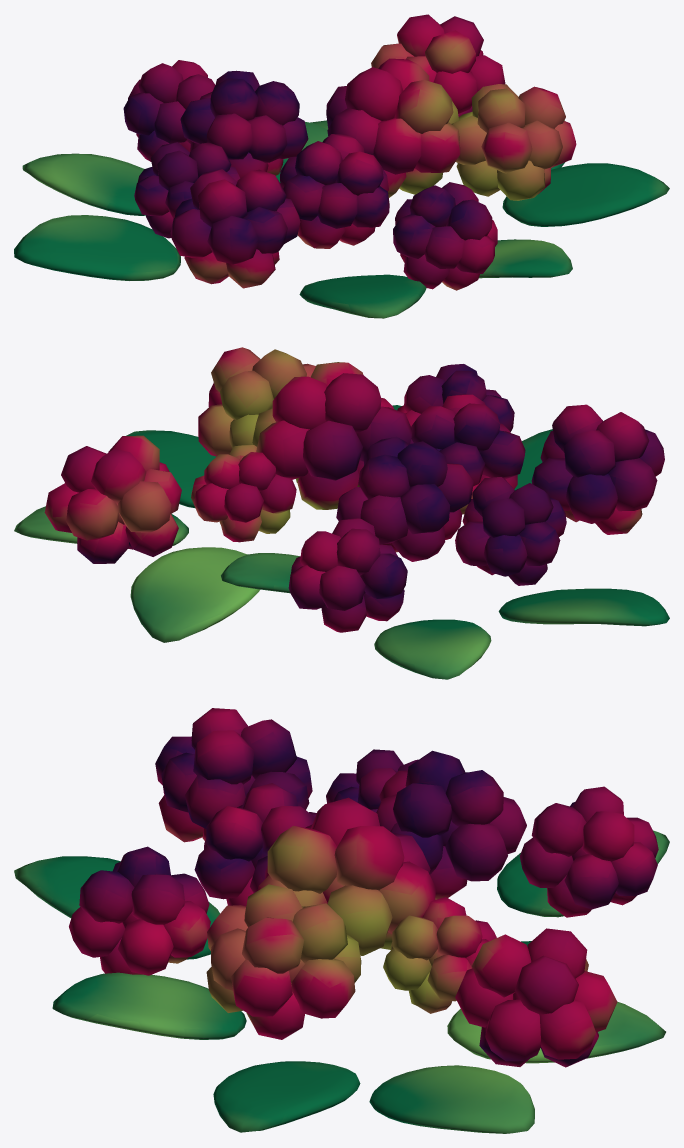
The model's file is StrawberryThicket.fbx.
3 renders of one model, top to bottom at view 1: azimuth 30°, elevation 25°; view 2: azimuth 150°, elevation 25°; view 3: azimuth 270°, elevation 25°, orthographic. The views are drawn at different scales.
Parts seen in each view (by area): view 1: StrawberryThicket; view 2: StrawberryThicket; view 3: StrawberryThicket.
Part boxes in pixels (box(x1,y1,x2,y2)): StrawberryThicket: box(14, 14, 669, 318); StrawberryThicket: box(14, 347, 669, 679); StrawberryThicket: box(14, 708, 669, 1133).
Size of the model in its own units: 0.3356 by 0.2677 by 0.092.
1 material, 1 textured.
